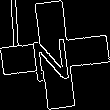N_N: (32, 27, 78, 83)
